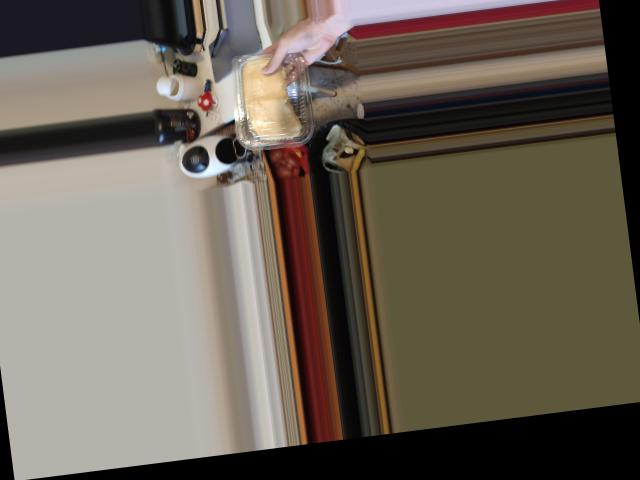cheese: (219, 50, 320, 146)
